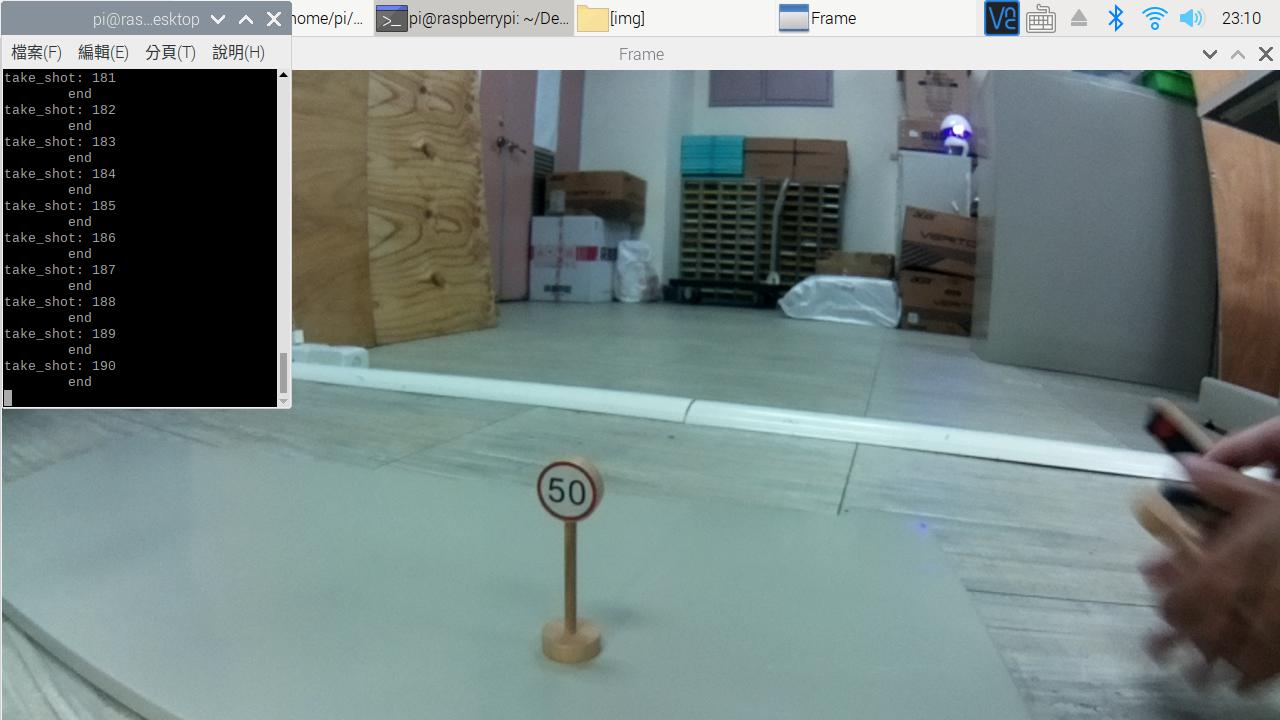Speed50: (533, 459, 618, 533)
